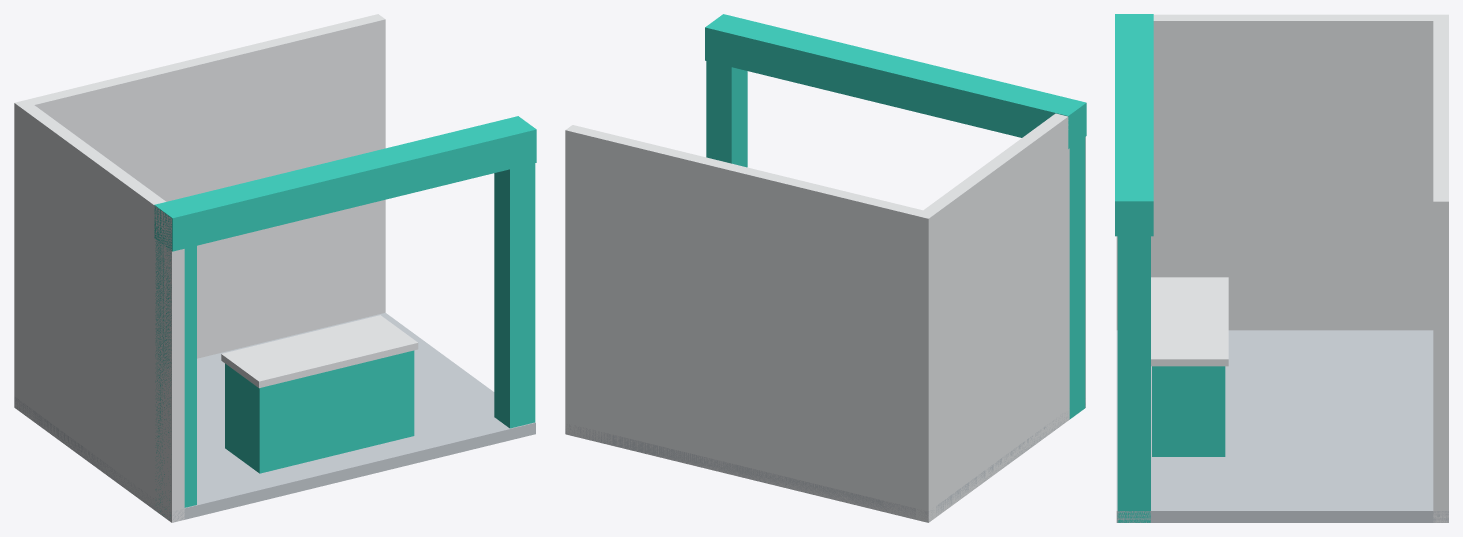
3 views of the same model, side by side, from view 1: azimuth 30°, elevation 25°; view 2: azimuth 150°, elevation 25°; view 3: azimuth 270°, elevation 25° (orthographic). The views are drawn at different scales.
Parts seen in each view (by area): view 1: Exhibition Booth Concept; view 2: Exhibition Booth Concept; view 3: Exhibition Booth Concept.
Boxes of the visible parts, x1=… form: Exhibition Booth Concept: x1=14, y1=14, x2=536, y2=522; Exhibition Booth Concept: x1=565, y1=14, x2=1086, y2=522; Exhibition Booth Concept: x1=1115, y1=14, x2=1448, y2=522.
Bounding box in the file's own units: 4 × 3.2 × 3.01.
